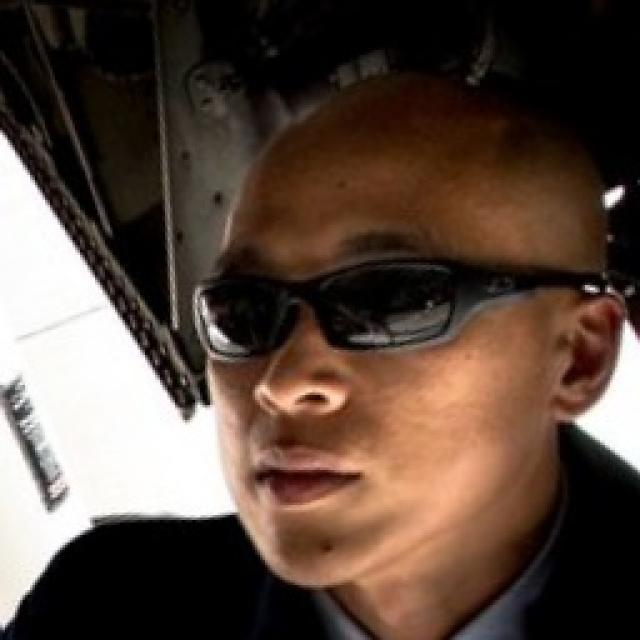glasses: (179, 256, 564, 382)
